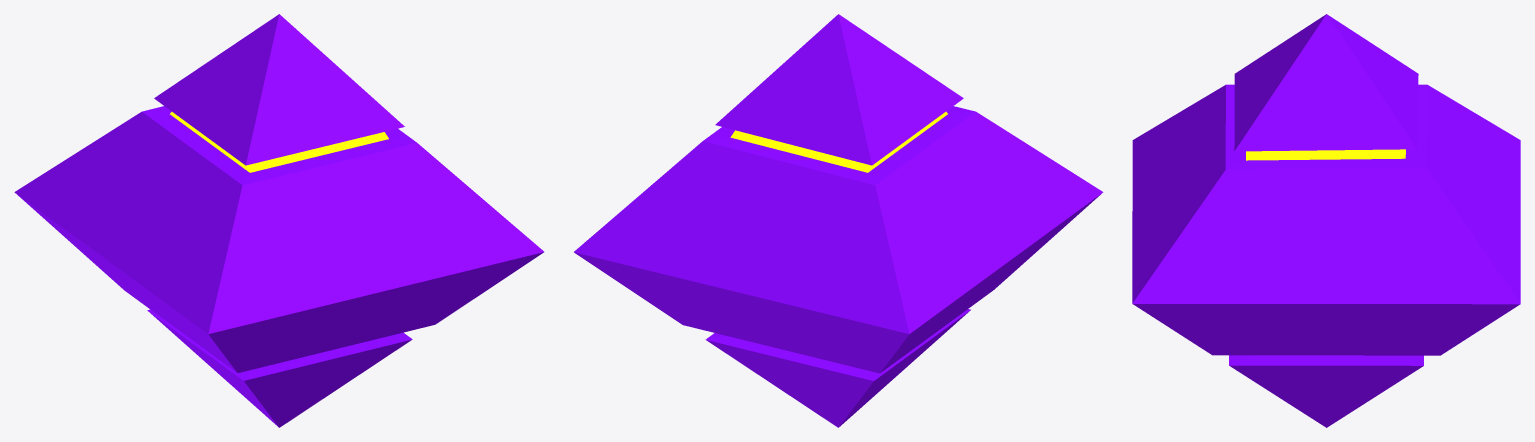
The model's file is BOSS.fbx.
The picture shows the model from 3 angles, left to right: view 1: azimuth 30°, elevation 25°; view 2: azimuth 150°, elevation 25°; view 3: azimuth 270°, elevation 25°; orthographic projection.
Parts seen in each view (by area): view 1: 立方体; view 2: 立方体; view 3: 立方体.
Boxes of the visible parts, <box> form: 立方体: <box>14,14,544,427</box>; 立方体: <box>574,14,1103,427</box>; 立方体: <box>1132,14,1520,427</box>.
Size of the model in its own units: 12.17 by 14.32 by 12.17.
